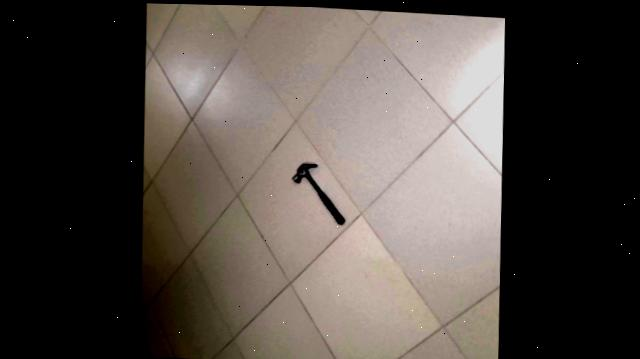hammer: (285, 141, 350, 237)
